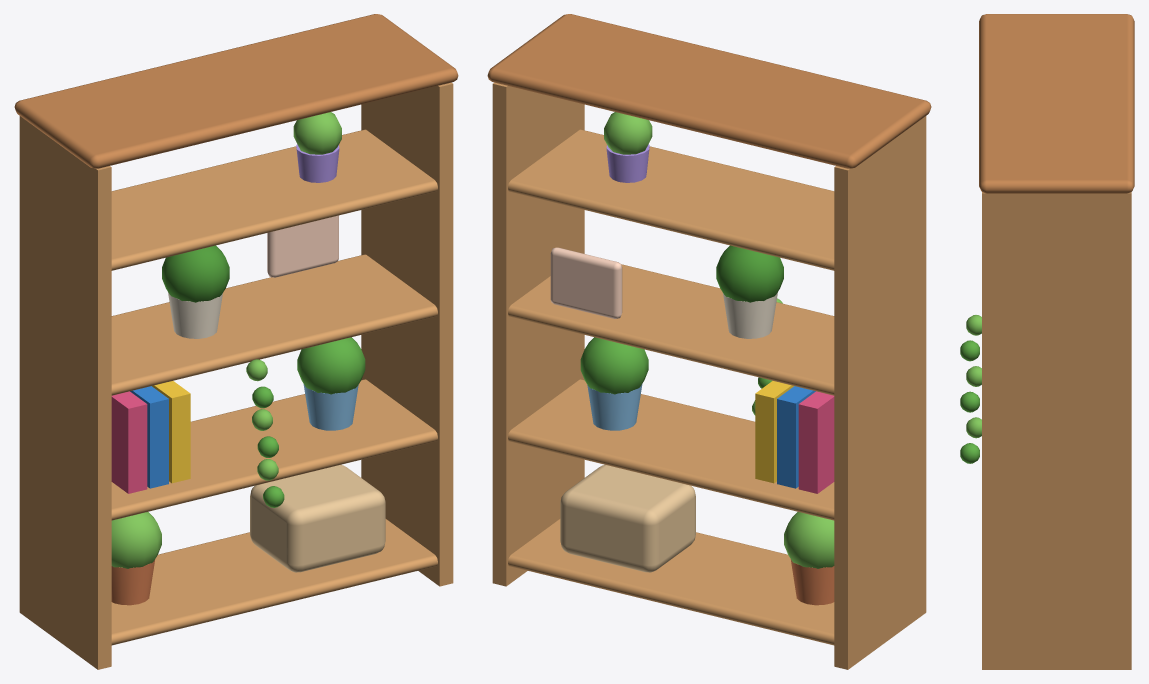
Rendered from closet-ladder.glb.
3 renders of one model, left to right at view 1: azimuth 30°, elevation 25°; view 2: azimuth 150°, elevation 25°; view 3: azimuth 270°, elevation 25°, orthographic. The views are drawn at different scales.
Size of the model in its own units: 1.36 by 1.81 by 0.5825.
